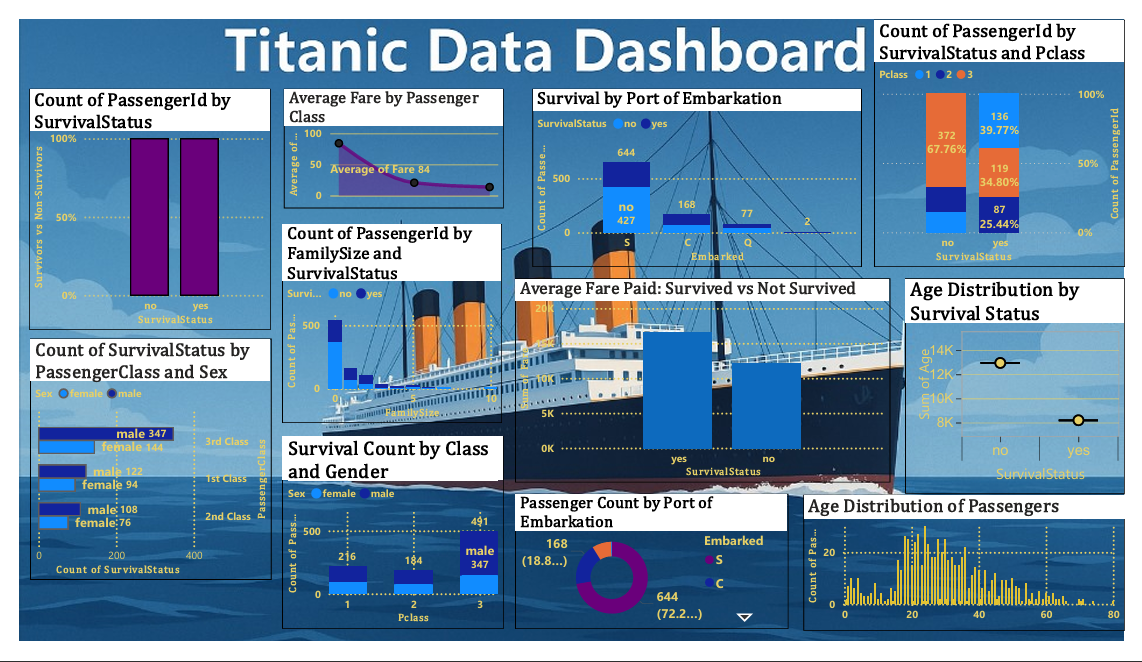

This screenshot's page, from the dashboard's own definition file:
{"tool":"powerbi","page":{"name":"Page 1","canvas":[1280,720],"ordinal":0},"visuals":[{"type":"hundredPercentStackedColumnChart","fields":{"Category":["train.SurvivalStatus"],"Y":["CountNonNull(train.PassengerId)"]},"box":[11,79.6,279.9,279.9],"z":0},{"type":"clusteredBarChart","fields":{"Y":["CountNonNull(train.SurvivalStatus)"],"Series":["train.Sex"],"Category":["train.PassengerClass"]},"box":[12,370,280,280],"z":1000},{"type":"hundredPercentStackedColumnChart","fields":{"Category":["train.SurvivalStatus"],"Series":["train.Pclass"],"Y":["CountNonNull(train.PassengerId)"]},"box":[989.9,0,290.7,286.5],"z":2000},{"type":"BoxandWhiskerByMAQ1823AD39DT234AB532063E128AX","title":"Age Distribution by Survival Status","fields":{"measure":["Sum(train.Age)"],"categoryGroup":["train.SurvivalStatus"]},"box":[1025.5,300.3,255,249.5],"z":3000},{"type":"columnChart","title":"Survival Count by Class and Gender","fields":{"Category":["train.Pclass"],"Y":["CountNonNull(train.PassengerId)"],"Series":["train.Sex"]},"box":[304.4,482.6,256.4,224.9],"z":4000},{"type":"stackedAreaChart","title":"Average Fare by Passenger Class","fields":{"Category":["train.Pclass"],"Y":["Avg(train.Fare)"]},"box":[305.7,79.5,255,139.8],"z":5000},{"type":"donutChart","title":"Passenger Count by Port of Embarkation","fields":{"Category":["train.Embarked"],"Y":["CountNonNull(train.PassengerId)"]},"box":[574.5,549.8,316.7,157.7],"z":6000},{"type":"columnChart","title":"Survival by Port of Embarkation","fields":{"Category":["train.Embarked"],"Series":["train.SurvivalStatus"],"Y":["CountNonNull(train.PassengerId)"]},"box":[593.7,79.5,382.5,207],"z":7000},{"type":"lineStackedColumnComboChart","title":"Age Distribution of Passengers","fields":{"Category":["train.Age"],"Y":["CountNonNull(train.PassengerId)"]},"box":[907.6,551.2,372.9,157.7],"z":8000},{"type":"lineClusteredColumnComboChart","title":"Average Fare Paid: Survived vs Not Survived","fields":{"Category":["train.SurvivalStatus"],"Y":["Sum(train.Fare)"]},"box":[574.5,300.3,434.6,237.2],"z":9000},{"type":"columnChart","fields":{"Category":["train.FamilySize"],"Series":["train.SurvivalStatus"],"Y":["CountNonNull(train.PassengerId)"]},"box":[304.4,237.2,255,230.3],"z":9001}]}

Visuals, with their boxes in screenshot pixels (x1, y1, x2, y2), scaled from the page's 1280x720 canvas onto the 1142x662 screenshot:
hundredPercentStackedColumnChart - train.SurvivalStatus x CountNonNull(train.PassengerId): {"x1": 10, "y1": 73, "x2": 260, "y2": 331}
clusteredBarChart - CountNonNull(train.SurvivalStatus) x train.Sex: {"x1": 11, "y1": 340, "x2": 261, "y2": 598}
hundredPercentStackedColumnChart - train.SurvivalStatus x train.Pclass: {"x1": 883, "y1": 0, "x2": 1141, "y2": 263}
"Age Distribution by Survival Status" BoxandWhiskerByMAQ1823AD39DT234AB532063E128AX: {"x1": 915, "y1": 276, "x2": 1141, "y2": 506}
"Survival Count by Class and Gender" columnChart: {"x1": 272, "y1": 444, "x2": 500, "y2": 651}
"Average Fare by Passenger Class" stackedAreaChart: {"x1": 273, "y1": 73, "x2": 500, "y2": 202}
"Passenger Count by Port of Embarkation" donutChart: {"x1": 513, "y1": 506, "x2": 795, "y2": 651}
"Survival by Port of Embarkation" columnChart: {"x1": 530, "y1": 73, "x2": 871, "y2": 263}
"Age Distribution of Passengers" lineStackedColumnComboChart: {"x1": 810, "y1": 507, "x2": 1141, "y2": 652}
"Average Fare Paid: Survived vs Not Survived" lineClusteredColumnComboChart: {"x1": 513, "y1": 276, "x2": 900, "y2": 494}
columnChart - train.FamilySize x train.SurvivalStatus: {"x1": 272, "y1": 218, "x2": 499, "y2": 430}
